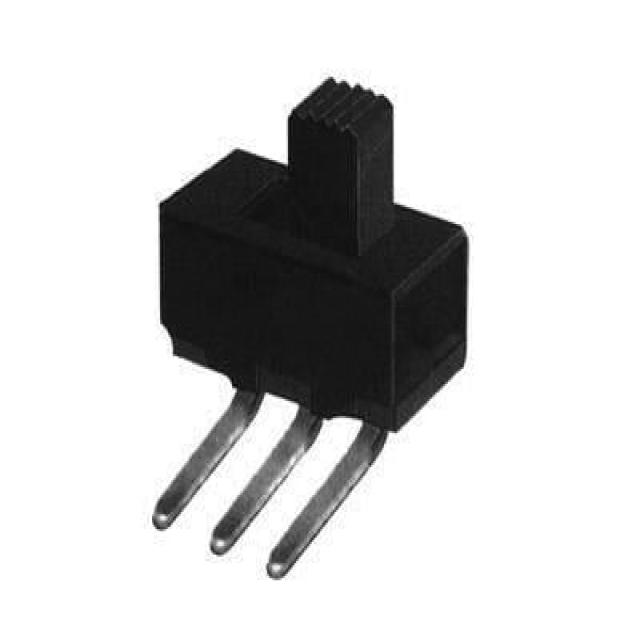switch: (149, 92, 486, 581)
